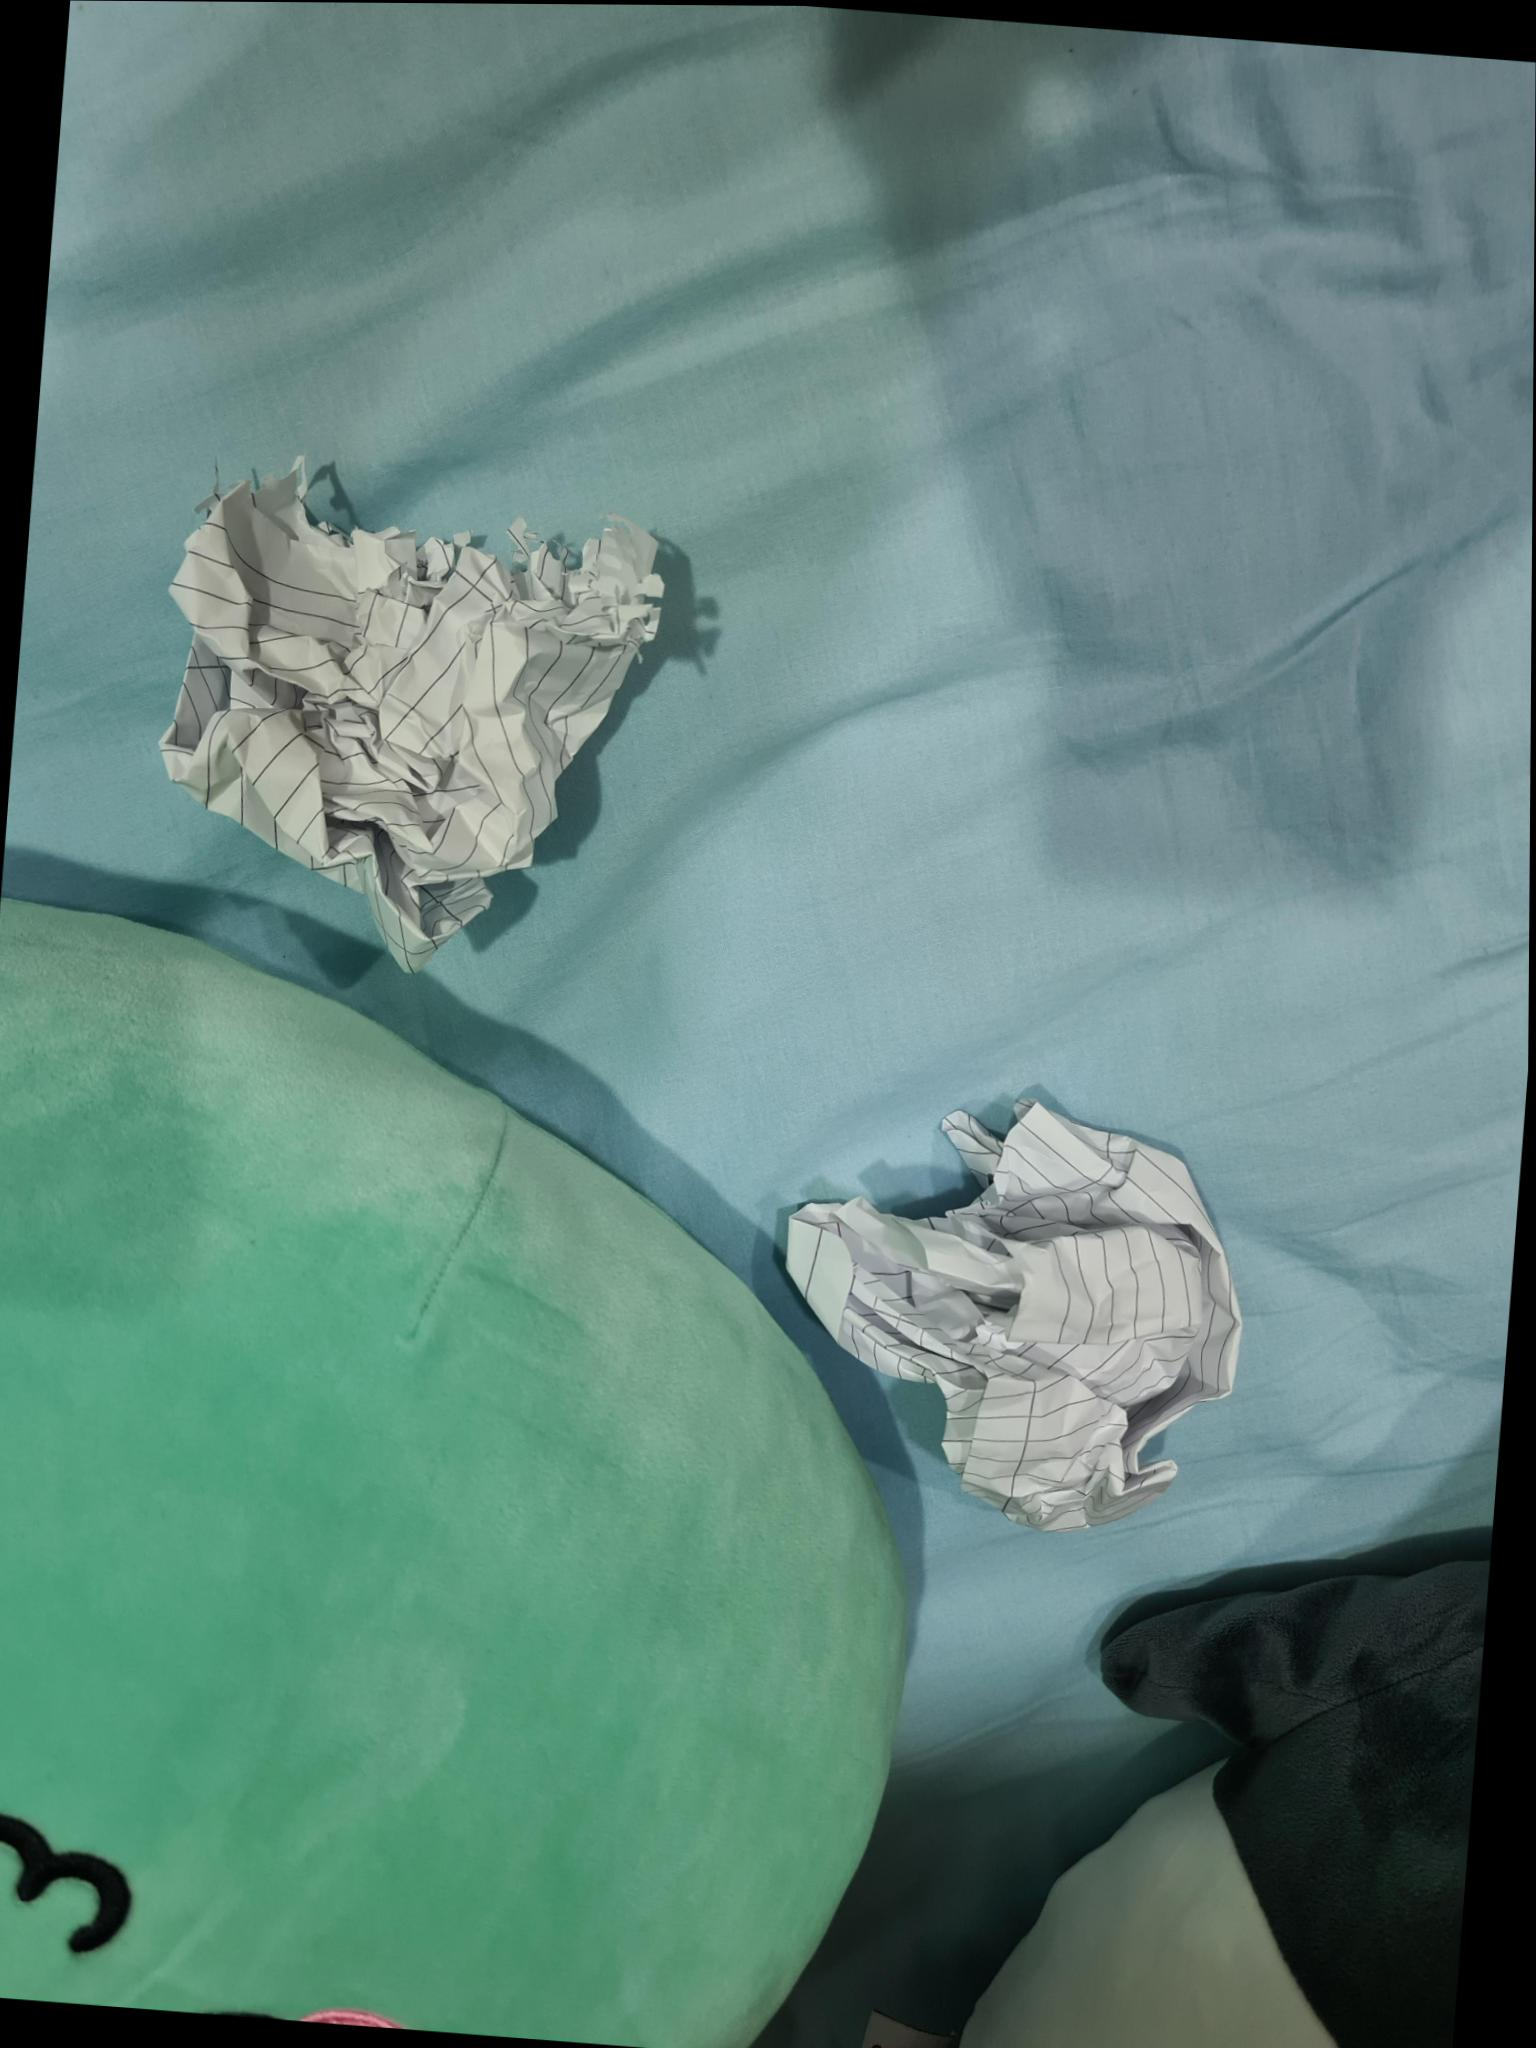paper: (157, 463, 699, 968), (770, 1080, 1273, 1537)
